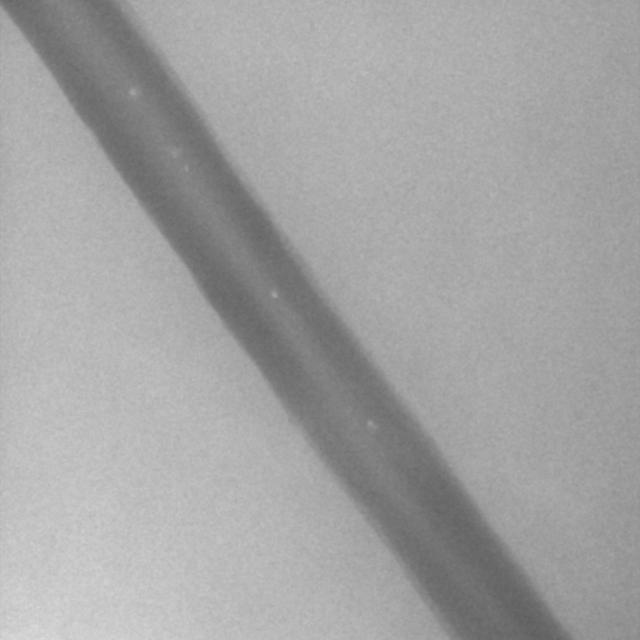air hole: (365, 418, 375, 431), (128, 86, 138, 98), (269, 287, 278, 298)
